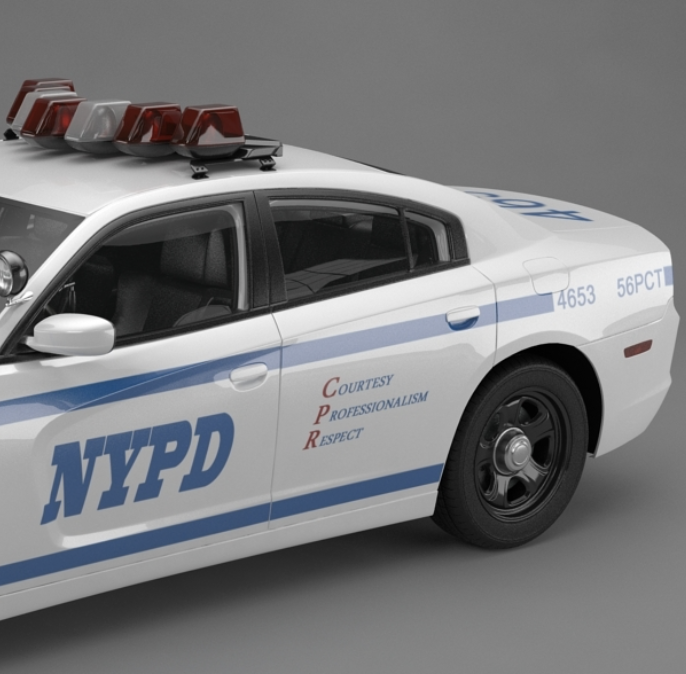hatch: (515, 252, 580, 302)
